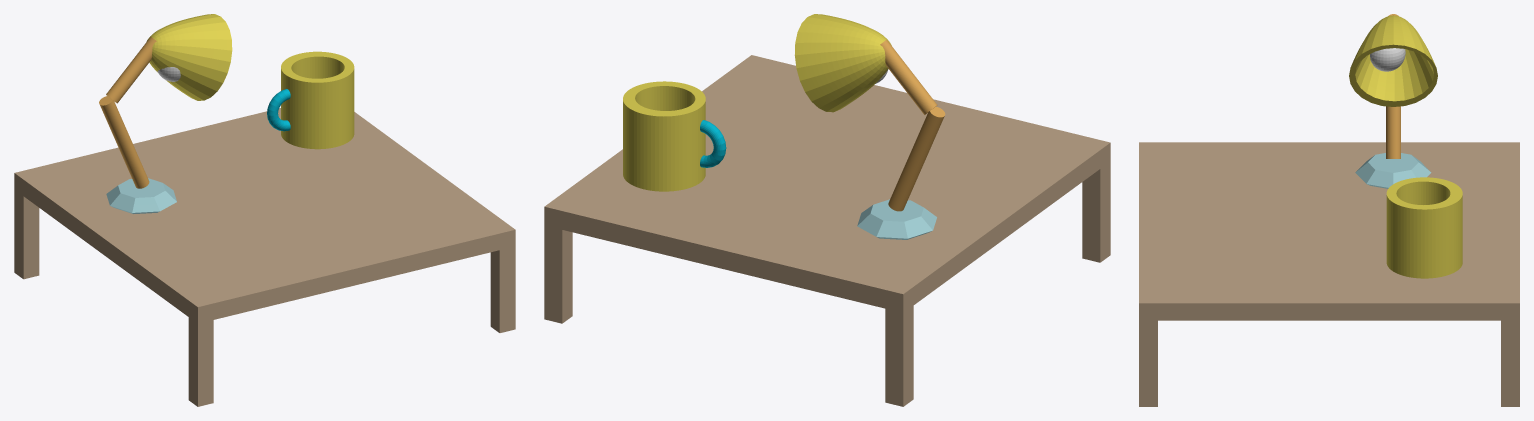
Rendered from Table.glb.
The picture shows the model from 3 angles, left to right: view 1: azimuth 30°, elevation 25°; view 2: azimuth 150°, elevation 25°; view 3: azimuth 270°, elevation 25°; orthographic projection. The views are drawn at different scales.
Parts seen in each view (by area): view 1: Mesh_Mesh_head_geo.001_lambert2SG.001; view 2: Mesh_Mesh_head_geo.001_lambert2SG.001; view 3: Mesh_Mesh_head_geo.001_lambert2SG.001.
Boxes of the visible parts, box(x1,y1,x2,y2) form: Mesh_Mesh_head_geo.001_lambert2SG.001: box(14, 14, 515, 406); Mesh_Mesh_head_geo.001_lambert2SG.001: box(544, 14, 1110, 406); Mesh_Mesh_head_geo.001_lambert2SG.001: box(1139, 14, 1519, 406).
Size of the model in its own units: 100 by 80.25 by 100.
